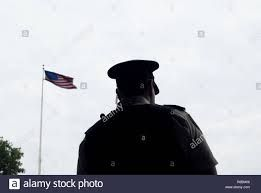uniform: (68, 53, 207, 172)
